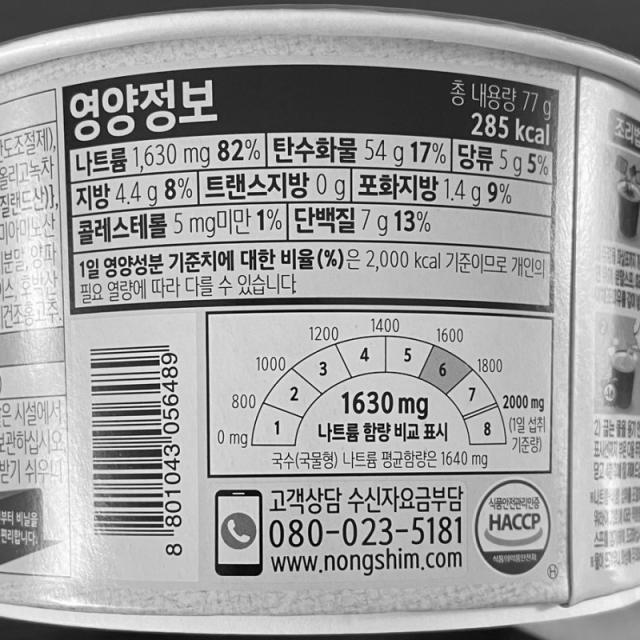Nutrition Label: (48, 62, 574, 319)
